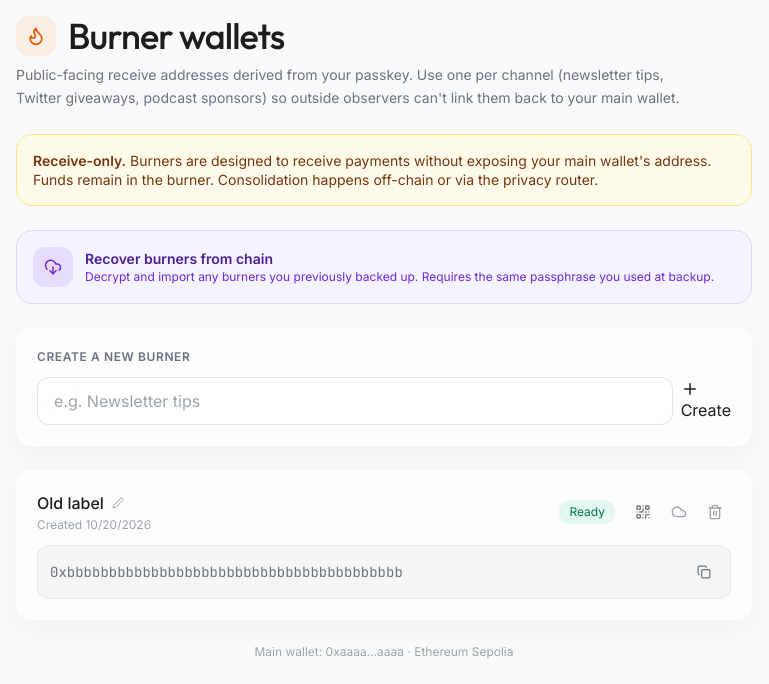
Test case: Burners — rename inline (§15.x) › Edit button toggles rename input pre-filled with current label
Step 1. Click the button named "Rename burner" → x=118, y=503, box [112, 497, 124, 509]
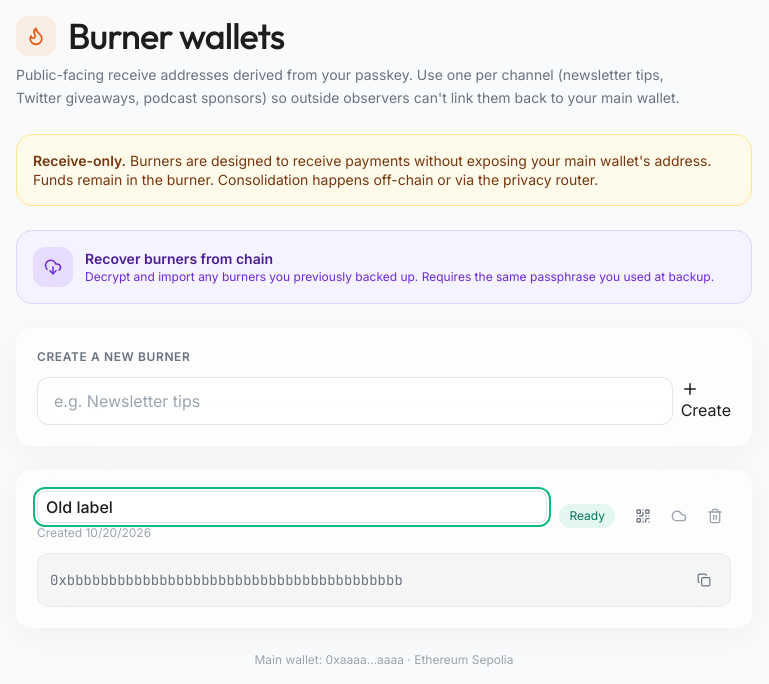
Expected: the 2nd field is shown, [37, 491, 547, 523]
